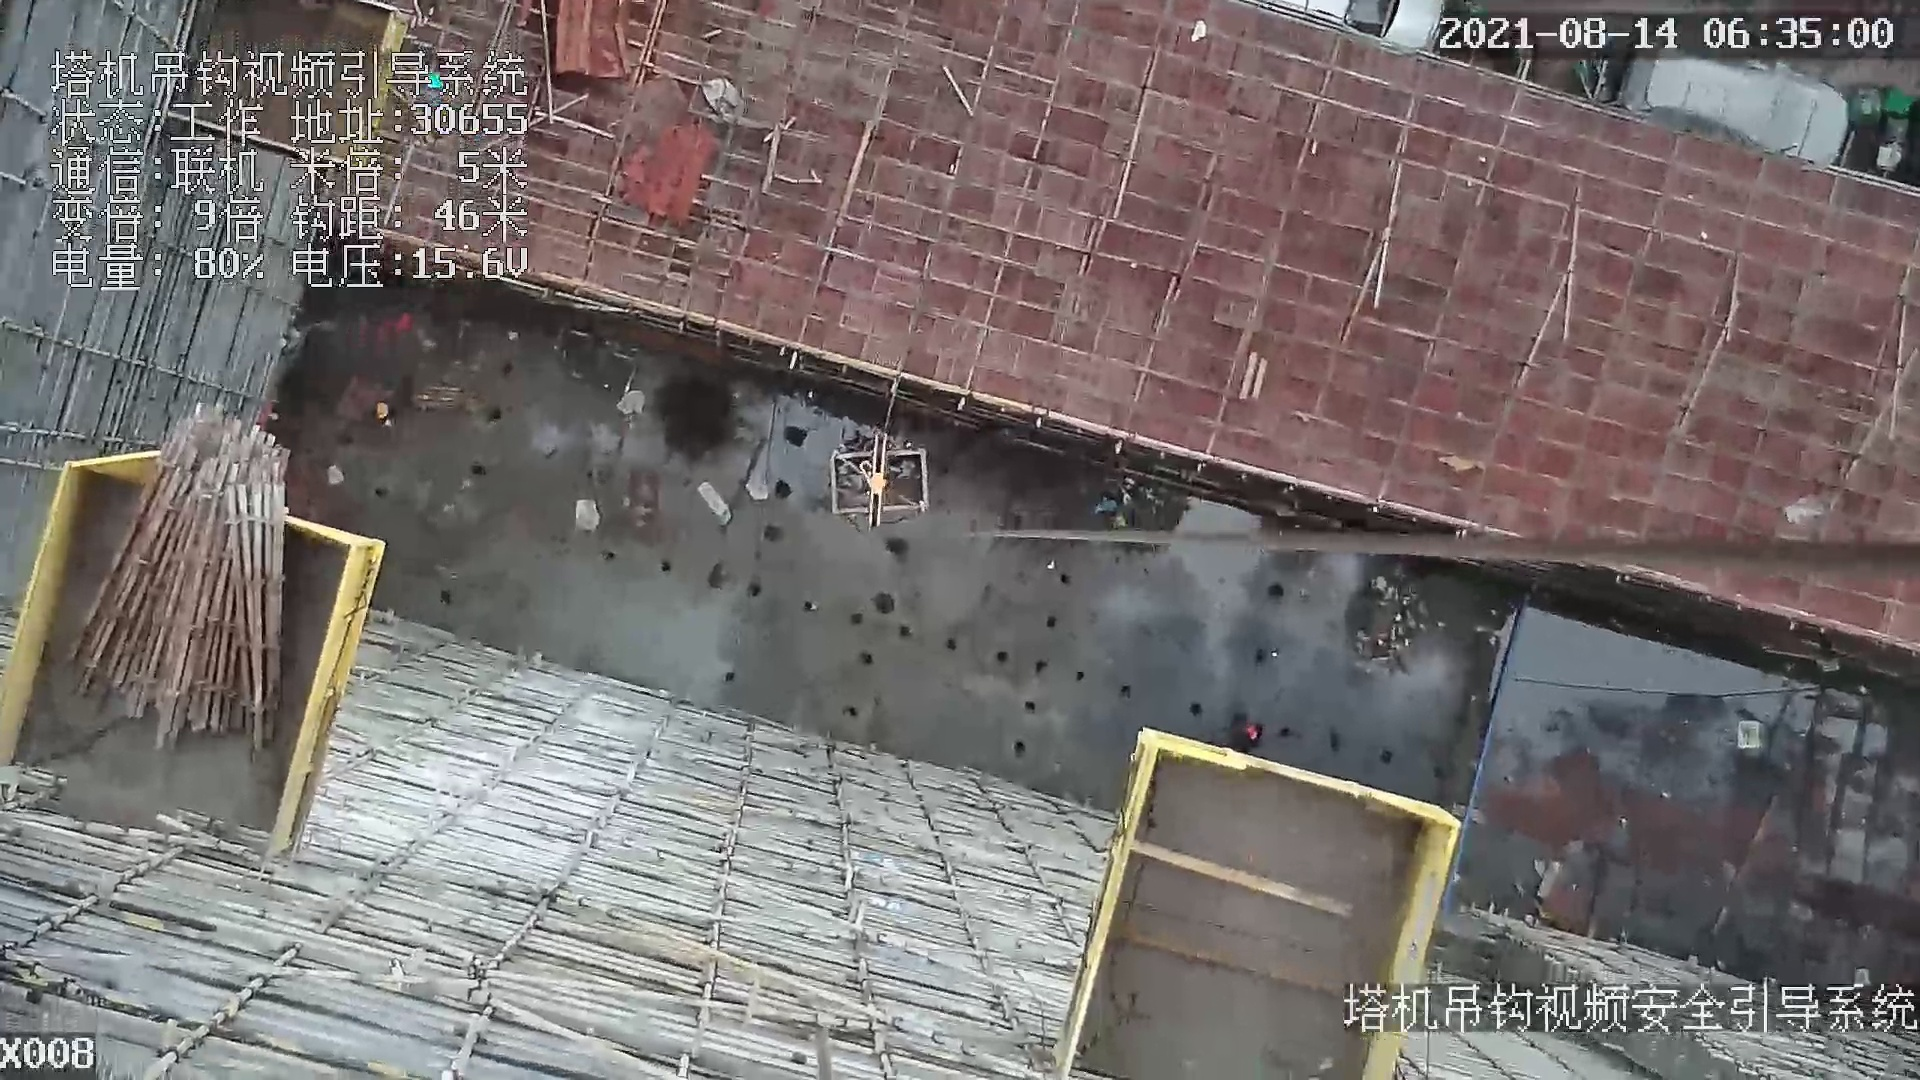hook: (856, 433, 885, 527)
hopper: (823, 448, 944, 531)
scaffold: (95, 396, 301, 754)
